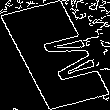M_W: (10, 25, 100, 85)
